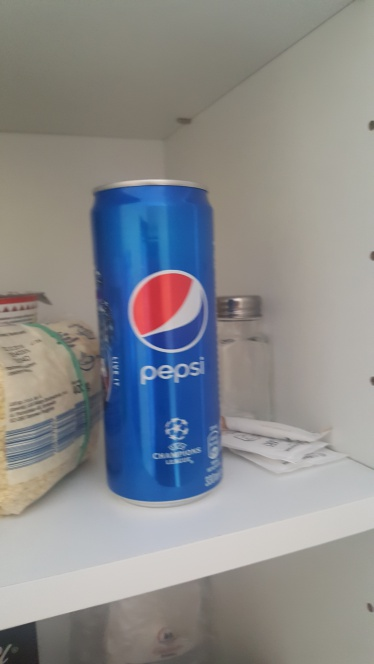pepsi: (80, 174, 235, 511)
